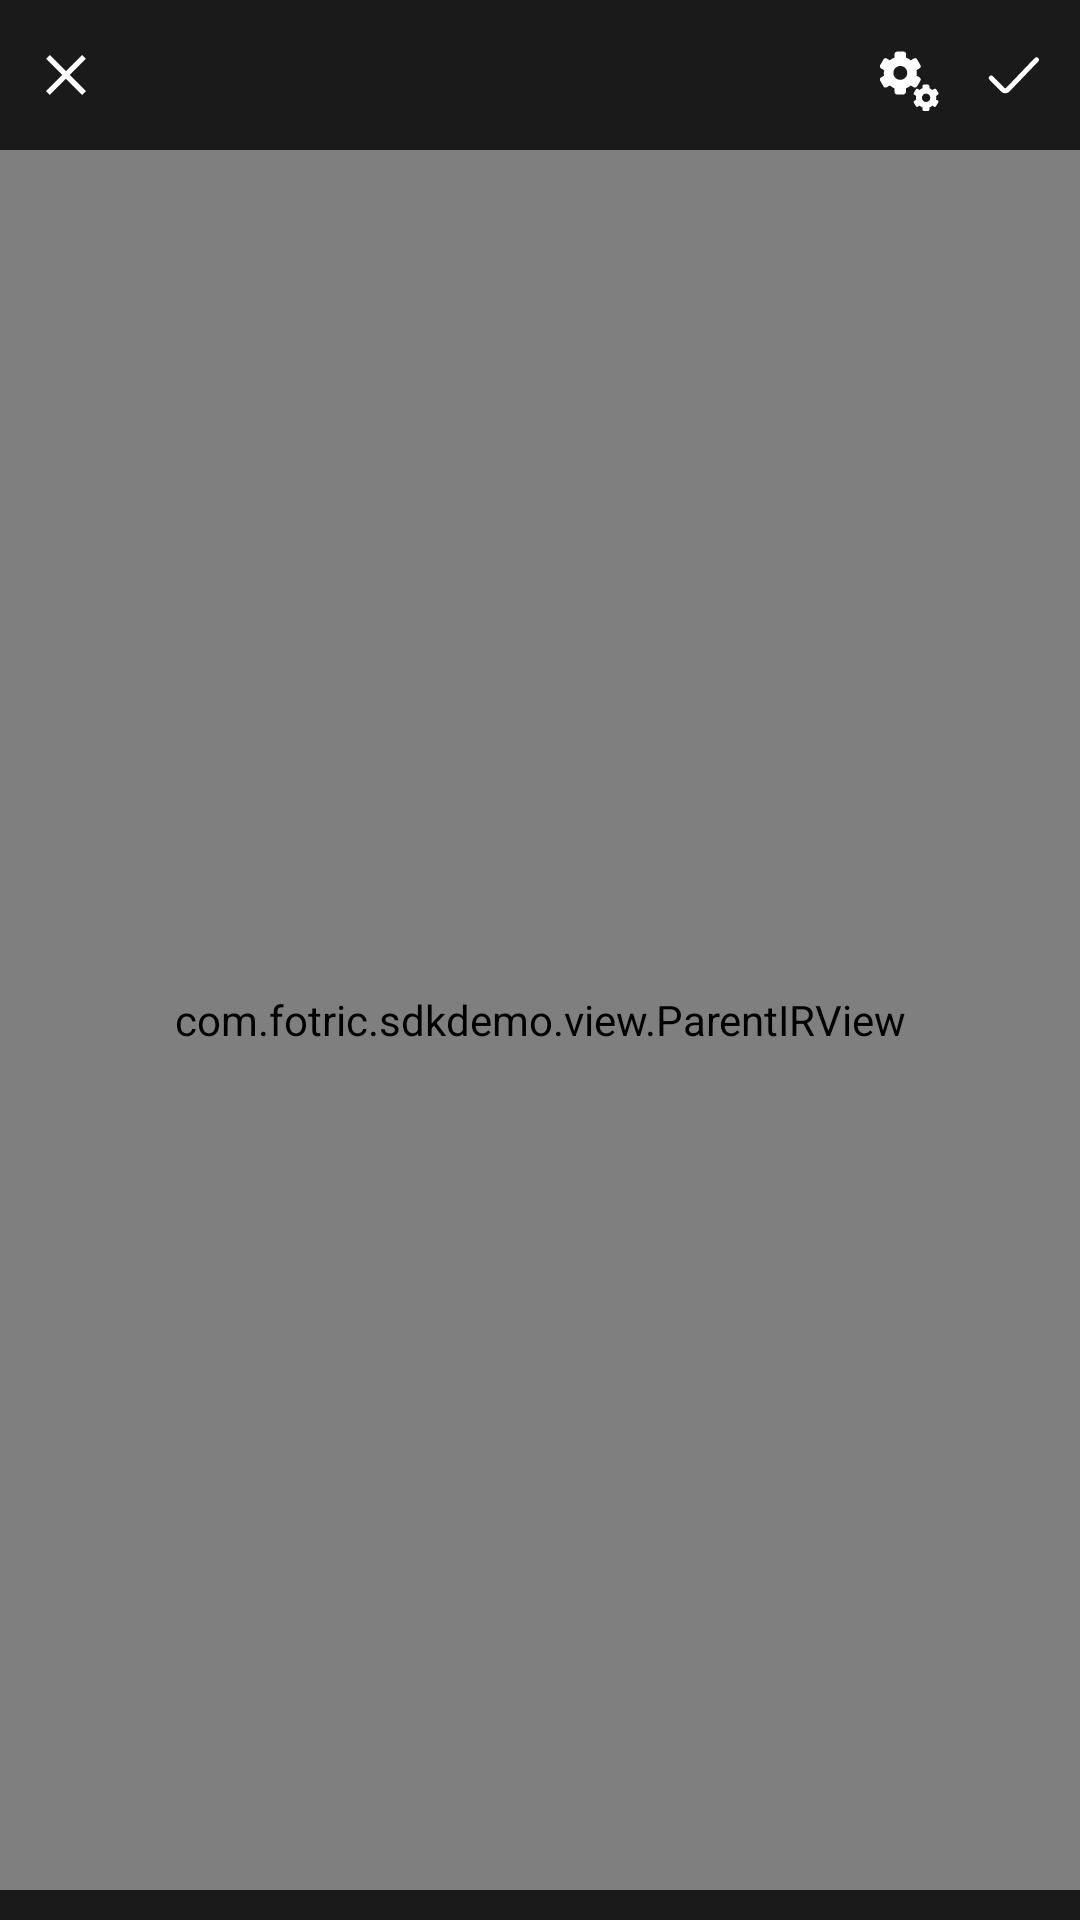

Screen size 1080w x 1920h. Icon name, then its center in pixels as [x,y]:
close: [66,75]
setting param: [909,81]
sure: [1013,75]
